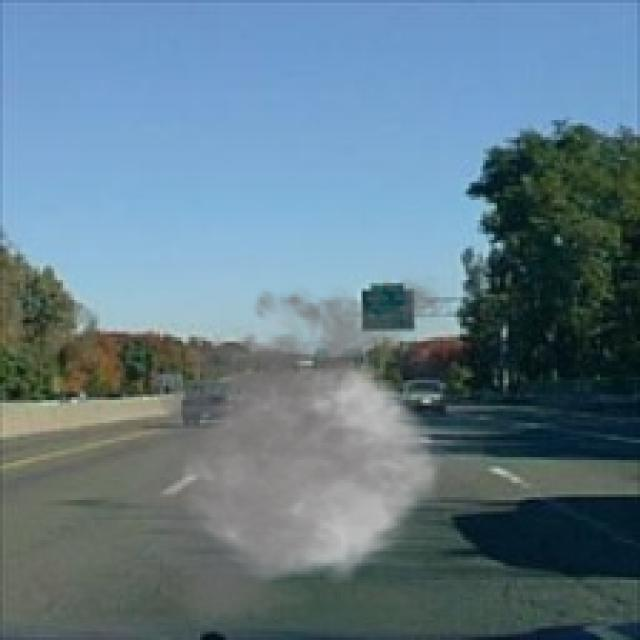smoke: (106, 266, 511, 634)
